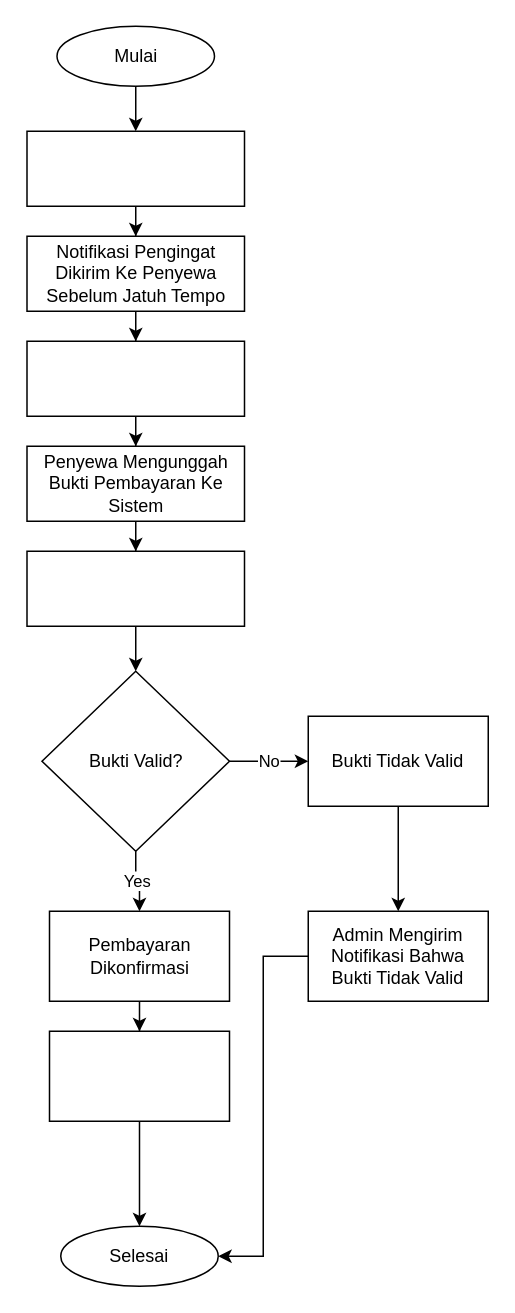
This 515x1313 diagram has some shape labels left out. Here are the shapes that lost their labels. From the top down, the centre of each, then its label:
At point 135,168: "Sistem Mengecek Tanggal Jatuh Tempo Pembayaran Kos".
At point 135,378: "Penyewa Melakukan Transfer Pembayaran".
At point 135,588: "Notifikasi Masuk Ke Admin Untuk Konfirmasi".
At point 139,1075: "Notifikasi Konfirmasi Pembayaran Terkirim Via WhatsApp".
